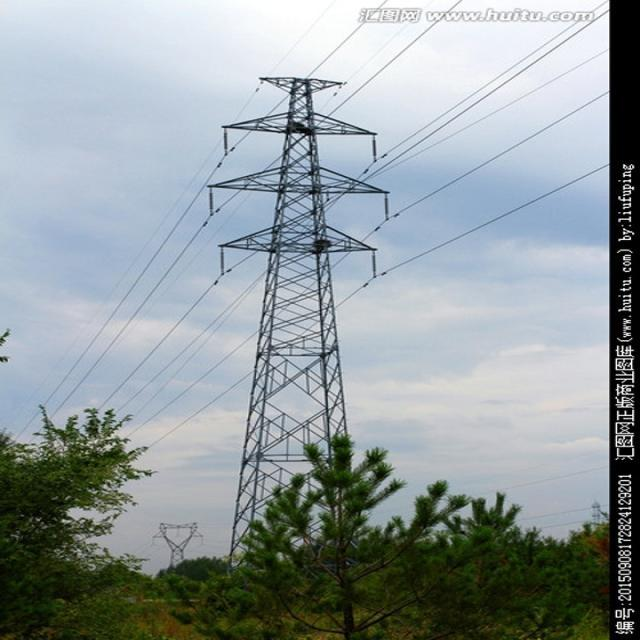non-critical vegetation: (212, 65, 380, 496)
